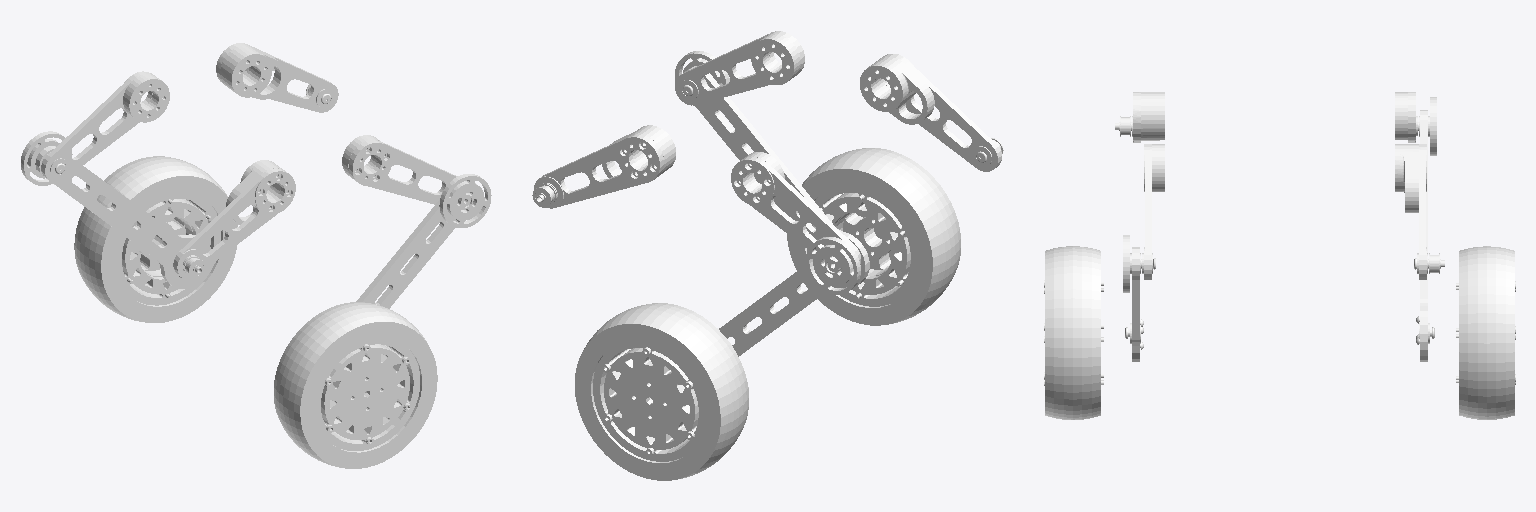
The robot description file, URDF, robot "WheelLeg-V2":
<?xml version="1.0" encoding="utf-8"?>
<!-- This URDF was automatically created by SolidWorks to URDF Exporter! Originally created by Stephen Brawner (brawner@gmail.com)
     Commit Version: 1.6.1-14-gc8b70b5-dirty  Build Version: 1.6.9673.28643
     For more information, please see http://wiki.ros.org/sw_urdf_exporter -->
<robot
  name="WheelLeg-V2">
  <link
    name="base_link">
    <inertial>
      <origin
        xyz="2.15980760496007E-05 8.21814090526396E-05 0.0336913119789112"
        rpy="0 0 0" />
      <mass
        value="2.14557612066222" />
      <inertia
        ixx="0.0123490772291187"
        ixy="5.37617251605127E-05"
        ixz="1.15887648822595E-05"
        iyy="0.0107199229872288"
        iyz="-2.90270893356202E-06"
        izz="0.0182527031006835" />
    </inertial>
    <visual>
      <origin
        xyz="0 0 0"
        rpy="0 0 0" />
      <geometry>
        <mesh
          filename="../meshes/base_link.STL" />
      </geometry>
      <material
        name="">
        <color
          rgba="1 1 1 1" />
      </material>
    </visual>
    <collision>
      <origin
        xyz="0 0 0"
        rpy="0 0 0" />
      <geometry>
        <mesh
          filename="../meshes/base_link.STL" />
      </geometry>
    </collision>
  </link>
  <link
    name="L_thigh_front_link">
    <inertial>
      <origin
        xyz="0.0320617230030558 0.017902617161224 -0.0185139939067478"
        rpy="0 0 0" />
      <mass
        value="0.0593628506953669" />
      <inertia
        ixx="2.55908555874532E-05"
        ixy="-6.73358940377212E-06"
        ixz="3.17214435504595E-05"
        iyy="8.29099934419853E-05"
        iyz="3.88830117472773E-06"
        izz="6.22071604291392E-05" />
    </inertial>
    <visual>
      <origin
        xyz="0 0 0"
        rpy="0 0 0" />
      <geometry>
        <mesh
          filename="../meshes/L_thigh_front_link.STL" />
      </geometry>
      <material
        name="">
        <color
          rgba="1 1 1 1" />
      </material>
    </visual>
    <collision>
      <origin
        xyz="0 0 0"
        rpy="0 0 0" />
      <geometry>
        <mesh
          filename="../meshes/L_thigh_front_link.STL" />
      </geometry>
    </collision>
  </link>
  <joint
    name="L_hip_front_joint"
    type="revolute">
    <origin
      xyz="0.044 0.0825 0.04"
      rpy="0 0 0" />
    <parent
      link="base_link" />
    <child
      link="L_thigh_front_link" />
    <axis
      xyz="0 1 0" />
    <limit
      lower="-1.0472"
      upper="0.6109"
      effort="9"
      velocity="5.236" />
  </joint>
  <link
    name="L_calf_front_link">
    <inertial>
      <origin
        xyz="-0.0832986591558881 -0.00064715588536834 -0.078131147965827"
        rpy="0 0 0" />
      <mass
        value="0.117176848715168" />
      <inertia
        ixx="0.000216399023229147"
        ixy="3.04937199066848E-05"
        ixz="-0.000197950064141617"
        iyy="0.000423419586192241"
        iyz="2.85623730975337E-05"
        izz="0.000241693729825474" />
    </inertial>
    <visual>
      <origin
        xyz="0 0 0"
        rpy="0 0 0" />
      <geometry>
        <mesh
          filename="../meshes/L_calf_front_link.STL" />
      </geometry>
      <material
        name="">
        <color
          rgba="1 1 1 1" />
      </material>
    </visual>
    <collision>
      <origin
        xyz="0 0 0"
        rpy="0 0 0" />
      <geometry>
        <mesh
          filename="../meshes/L_calf_front_link.STL" />
      </geometry>
    </collision>
  </link>
  <joint
    name="L_knee_front_joint"
    type="continuous">
    <origin
      xyz="0.0727430394564673 0.0379999999999989 -0.0420053593084837"
      rpy="0 0 0" />
    <parent
      link="L_thigh_front_link" />
    <child
      link="L_calf_front_link" />
    <axis
      xyz="0 1 0" />
  </joint>
  <link
    name="L_wheel_link">
    <inertial>
      <origin
        xyz="-8.01320179496873E-08 0.0353701017805994 2.59748077213741E-09"
        rpy="0 0 0" />
      <mass
        value="0.283294139929351" />
      <inertia
        ixx="0.000343178306449479"
        ixy="1.80057726012297E-19"
        ixz="-1.86347248395946E-20"
        iyy="0.000614857260851645"
        iyz="9.26303319716482E-19"
        izz="0.000343178306449479" />
    </inertial>
    <visual>
      <origin
        xyz="0 0 0"
        rpy="0 0 0" />
      <geometry>
        <mesh
          filename="../meshes/L_wheel_link.STL" />
      </geometry>
      <material
        name="">
        <color
          rgba="1 1 1 1" />
      </material>
    </visual>
    <collision>
      <origin
        xyz="0 0 0"
        rpy="0 0 0" />
      <geometry>
        <mesh
          filename="../meshes/L_wheel_link.STL" />
      </geometry>
    </collision>
  </link>
  <joint
    name="L_wheel_joint"
    type="continuous">
    <origin
      xyz="-0.116743108315966 -0.00649999999999956 -0.109412278381938"
      rpy="0 0 0" />
    <parent
      link="L_calf_front_link" />
    <child
      link="L_wheel_link" />
    <axis
      xyz="0 1 0" />
    <limit
      effort="0.9"
      velocity="31.416" />
  </joint>
  <link
    name="L_thigh_rear_link">
    <inertial>
      <origin
        xyz="-0.036418392367195 0.0122680373161157 -0.0210126588833096"
        rpy="0 0 0" />
      <mass
        value="0.0505571251734487" />
      <inertia
        ixx="2.0815885216036E-05"
        ixy="3.66872491713951E-06"
        ixz="-2.76115370082018E-05"
        iyy="7.15078243080975E-05"
        iyz="2.11645436508179E-06"
        izz="5.27603396551535E-05" />
    </inertial>
    <visual>
      <origin
        xyz="0 0 0"
        rpy="0 0 0" />
      <geometry>
        <mesh
          filename="../meshes/L_thigh_rear_link.STL" />
      </geometry>
      <material
        name="">
        <color
          rgba="1 1 1 1" />
      </material>
    </visual>
    <collision>
      <origin
        xyz="0 0 0"
        rpy="0 0 0" />
      <geometry>
        <mesh
          filename="../meshes/L_thigh_rear_link.STL" />
      </geometry>
    </collision>
  </link>
  <joint
    name="L_hip_rear_joint"
    type="revolute">
    <origin
      xyz="-0.044 0.0825 0.04"
      rpy="0 0 0" />
    <parent
      link="base_link" />
    <child
      link="L_thigh_rear_link" />
    <axis
      xyz="0 -1 0" />
    <limit
      lower="-1.0472"
      upper="0.6109"
      effort="9"
      velocity="5.236" />
  </joint>
  <link
    name="L_calf_rear_link">
    <inertial>
      <origin
        xyz="0.0686975700435656 -0.00908835283202642 -0.064383855010239"
        rpy="0 0 0" />
      <mass
        value="0.0814760383602757" />
      <inertia
        ixx="0.000141630814246906"
        ixy="2.45950857269284E-06"
        ixz="0.000144293790868938"
        iyy="0.000300976557602944"
        iyz="-2.305069061981E-06"
        izz="0.000160359106838228" />
    </inertial>
    <visual>
      <origin
        xyz="0 0 0"
        rpy="0 0 0" />
      <geometry>
        <mesh
          filename="../meshes/L_calf_rear_link.STL" />
      </geometry>
      <material
        name="">
        <color
          rgba="1 1 1 1" />
      </material>
    </visual>
    <collision>
      <origin
        xyz="0 0 0"
        rpy="0 0 0" />
      <geometry>
        <mesh
          filename="../meshes/L_calf_rear_link.STL" />
      </geometry>
    </collision>
  </link>
  <joint
    name="L_knee_rear_joint"
    type="continuous">
    <origin
      xyz="-0.0727430776615918 0.0304999999999989 -0.0420052531270897"
      rpy="0 0 0" />
    <parent
      link="L_thigh_rear_link" />
    <child
      link="L_calf_rear_link" />
    <axis
      xyz="0 1 0" />
  </joint>
  <link
    name="R_thigh_front_link">
    <inertial>
      <origin
        xyz="0.0364183804819489 -0.0122680373161162 -0.0210126754451832"
        rpy="0 0 0" />
      <mass
        value="0.0505571251734486" />
      <inertia
        ixx="2.08159103296651E-05"
        ixy="3.6687239546459E-06"
        ixz="2.76115515354688E-05"
        iyy="7.15078243080975E-05"
        iyz="-2.11645603349599E-06"
        izz="5.27603145415244E-05" />
    </inertial>
    <visual>
      <origin
        xyz="0 0 0"
        rpy="0 0 0" />
      <geometry>
        <mesh
          filename="../meshes/R_thigh_front_link.STL" />
      </geometry>
      <material
        name="">
        <color
          rgba="1 1 1 1" />
      </material>
    </visual>
    <collision>
      <origin
        xyz="0 0 0"
        rpy="0 0 0" />
      <geometry>
        <mesh
          filename="../meshes/R_thigh_front_link.STL" />
      </geometry>
    </collision>
  </link>
  <joint
    name="R_hip_front_joint"
    type="revolute">
    <origin
      xyz="0.044 -0.0825 0.04"
      rpy="0 0 0" />
    <parent
      link="base_link" />
    <child
      link="R_thigh_front_link" />
    <axis
      xyz="0 1 0" />
    <limit
      lower="-1.0472"
      upper="0.6109"
      effort="9"
      velocity="5.236" />
  </joint>
  <link
    name="R_calf_front_link">
    <inertial>
      <origin
        xyz="-0.0686975993231228 0.00908835283202642 -0.0643838237687486"
        rpy="0 0 0" />
      <mass
        value="0.0814760383602757" />
      <inertia
        ixx="0.000141630683006849"
        ixy="2.45950962096156E-06"
        ixz="-0.000144293782351872"
        iyy="0.000300976557602944"
        iyz="2.30506794347785E-06"
        izz="0.000160359238078284" />
    </inertial>
    <visual>
      <origin
        xyz="0 0 0"
        rpy="0 0 0" />
      <geometry>
        <mesh
          filename="../meshes/R_calf_front_link.STL" />
      </geometry>
      <material
        name="">
        <color
          rgba="1 1 1 1" />
      </material>
    </visual>
    <collision>
      <origin
        xyz="0 0 0"
        rpy="0 0 0" />
      <geometry>
        <mesh
          filename="../meshes/R_calf_front_link.STL" />
      </geometry>
    </collision>
  </link>
  <joint
    name="R_knee_front_joint"
    type="continuous">
    <origin
      xyz="0.0727430562295288 -0.0304999999999996 -0.0420052862083307"
      rpy="0 0 0" />
    <parent
      link="R_thigh_front_link" />
    <child
      link="R_calf_front_link" />
    <axis
      xyz="0 -1 0" />
  </joint>
  <link
    name="R_thigh_rear_link">
    <inertial>
      <origin
        xyz="-0.0320617290933062 -0.0179026171612244 -0.0185140193452972"
        rpy="0 0 0" />
      <mass
        value="0.0593628506953669" />
      <inertia
        ixx="2.55908267357399E-05"
        ixy="-6.7335911720418E-06"
        ixz="-3.17214268985654E-05"
        iyy="8.29099934419853E-05"
        iyz="-3.88829811251419E-06"
        izz="6.22071892808524E-05" />
    </inertial>
    <visual>
      <origin
        xyz="0 0 0"
        rpy="0 0 0" />
      <geometry>
        <mesh
          filename="../meshes/R_thigh_rear_link.STL" />
      </geometry>
      <material
        name="">
        <color
          rgba="1 1 1 1" />
      </material>
    </visual>
    <collision>
      <origin
        xyz="0 0 0"
        rpy="0 0 0" />
      <geometry>
        <mesh
          filename="../meshes/R_thigh_rear_link.STL" />
      </geometry>
    </collision>
  </link>
  <joint
    name="R_hip_rear_joint"
    type="revolute">
    <origin
      xyz="-0.0440000023293051 -0.0824999999999994 0.0400000400193226"
      rpy="0 0 0" />
    <parent
      link="base_link" />
    <child
      link="R_thigh_rear_link" />
    <axis
      xyz="0 -1 0" />
    <limit
      lower="-1.0472"
      upper="0.6109"
      effort="9"
      velocity="5.236" />
  </joint>
  <link
    name="R_calf_rear_link">
    <inertial>
      <origin
        xyz="0.0832986236245025 0.00064715588536825 -0.0781311858475131"
        rpy="0 0 0" />
      <mass
        value="0.117176848715168" />
      <inertia
        ixx="0.0002163992032714"
        ixy="3.04937069174621E-05"
        ixz="0.000197950075644729"
        iyy="0.000423419586192242"
        iyz="-2.85623869650635E-05"
        izz="0.000241693549783222" />
    </inertial>
    <visual>
      <origin
        xyz="0 0 0"
        rpy="0 0 0" />
      <geometry>
        <mesh
          filename="../meshes/R_calf_rear_link.STL" />
      </geometry>
      <material
        name="">
        <color
          rgba="1 1 1 1" />
      </material>
    </visual>
    <collision>
      <origin
        xyz="0 0 0"
        rpy="0 0 0" />
      <geometry>
        <mesh
          filename="../meshes/R_calf_rear_link.STL" />
      </geometry>
    </collision>
  </link>
  <joint
    name="R_knee_rear_joint"
    type="continuous">
    <origin
      xyz="-0.0727430562298851 -0.0379999999999994 -0.0420053662462906"
      rpy="0 0 0" />
    <parent
      link="R_thigh_rear_link" />
    <child
      link="R_calf_rear_link" />
    <axis
      xyz="0 -1 0" />
    <limit
      effort="0.9"
      velocity="31.416" />
  </joint>
  <link
    name="R_wheel_link">
    <inertial>
      <origin
        xyz="8.01322535528909E-08 -0.0353701017805995 2.59738447416778E-09"
        rpy="0 0 0" />
      <mass
        value="0.283294139929351" />
      <inertia
        ixx="0.000343178306449479"
        ixy="1.94458940476845E-19"
        ixz="-1.51671837117724E-20"
        iyy="0.000614857260851645"
        iyz="-9.63837467191688E-19"
        izz="0.000343178306449479" />
    </inertial>
    <visual>
      <origin
        xyz="0 0 0"
        rpy="0 0 0" />
      <geometry>
        <mesh
          filename="../meshes/R_wheel_link.STL" />
      </geometry>
      <material
        name="">
        <color
          rgba="1 1 1 1" />
      </material>
    </visual>
    <collision>
      <origin
        xyz="0 0 0"
        rpy="0 0 0" />
      <geometry>
        <mesh
          filename="../meshes/R_wheel_link.STL" />
      </geometry>
    </collision>
  </link>
  <joint
    name="R_wheel_joint"
    type="continuous">
    <origin
      xyz="0.116743058558722 0.00649999999999951 -0.109412331472987"
      rpy="0 0 0" />
    <parent
      link="R_calf_rear_link" />
    <child
      link="R_wheel_link" />
    <axis
      xyz="0 -1 0" />
  </joint>
  <loop_joint name="L_loop_joint" type="spherical">
    <link1 link="L_calf_front_link" rpy="0 0 0" xyz="-0.11674311 -0.00650000 -0.10941228"/>
    <link2 link="L_calf_rear_link" rpy="0 0 0" xyz="0.11674301 0.00100000 -0.10941238"/>
  </loop_joint>
  <loop_joint name="R_loop_joint" type="spherical">
    <link1 link="R_calf_front_link" rpy="0 0 0" xyz="-0.11674306 -0.00100000 -0.10941233"/>
    <link2 link="R_calf_rear_link" rpy="0 0 0" xyz="0.11674306 0.00650000 -0.10941233"/>
  </loop_joint>
</robot>

--- What the picture shows (computed from the rendered views, not written in the file) ---
Views: 3 orthographic renders of the robot side by side, from view 1: azimuth 30°, elevation 25°; view 2: azimuth 150°, elevation 25°; view 3: azimuth 270°, elevation 25°.
Model WheelLeg-V2 with 11 links and 10 joints (4 revolute, 6 continuous), rooted at base_link, posed all joints at 0.
Visible links, largest first — view 1: R_wheel_link, L_wheel_link, L_calf_rear_link, R_thigh_rear_link, R_calf_front_link, L_thigh_rear_link, L_thigh_front_link, R_thigh_front_link; view 2: L_wheel_link, R_wheel_link, R_thigh_rear_link, L_thigh_front_link, L_calf_rear_link, R_thigh_front_link, L_thigh_rear_link, R_calf_front_link; view 3: R_wheel_link, L_wheel_link, L_thigh_front_link, R_thigh_rear_link, R_thigh_front_link, L_calf_rear_link, R_calf_front_link, L_thigh_rear_link.
Link boxes in pixels (x1,y1,x2,y2): R_wheel_link: (274, 302, 437, 468); L_wheel_link: (74, 156, 237, 322); L_calf_rear_link: (21, 131, 211, 288); R_thigh_rear_link: (173, 160, 295, 278); R_calf_front_link: (356, 174, 491, 308); L_thigh_rear_link: (41, 71, 169, 182); L_thigh_front_link: (216, 43, 338, 112); R_thigh_front_link: (342, 135, 468, 204); L_wheel_link: (575, 303, 748, 480); R_wheel_link: (787, 148, 960, 325); R_thigh_rear_link: (860, 54, 1003, 171); L_thigh_front_link: (532, 125, 675, 208); L_calf_rear_link: (719, 237, 860, 356); R_thigh_front_link: (675, 31, 804, 105); L_thigh_rear_link: (731, 152, 860, 271); R_calf_front_link: (675, 51, 869, 287); R_wheel_link: (1044, 246, 1103, 419); L_wheel_link: (1456, 246, 1515, 419); L_thigh_front_link: (1395, 144, 1444, 279); R_thigh_rear_link: (1115, 92, 1164, 142); R_thigh_front_link: (1130, 144, 1164, 279); L_calf_rear_link: (1416, 97, 1436, 361); R_calf_front_link: (1123, 235, 1143, 361); L_thigh_rear_link: (1395, 92, 1429, 142).
Size in the robot's own frame: 0.2755 by 0.3383 by 0.2314 metres.
8 mesh visuals loaded from 11 distinct referenced files (8 binary STL); not drawn: 3 (reference not matched to a file when rendering).
